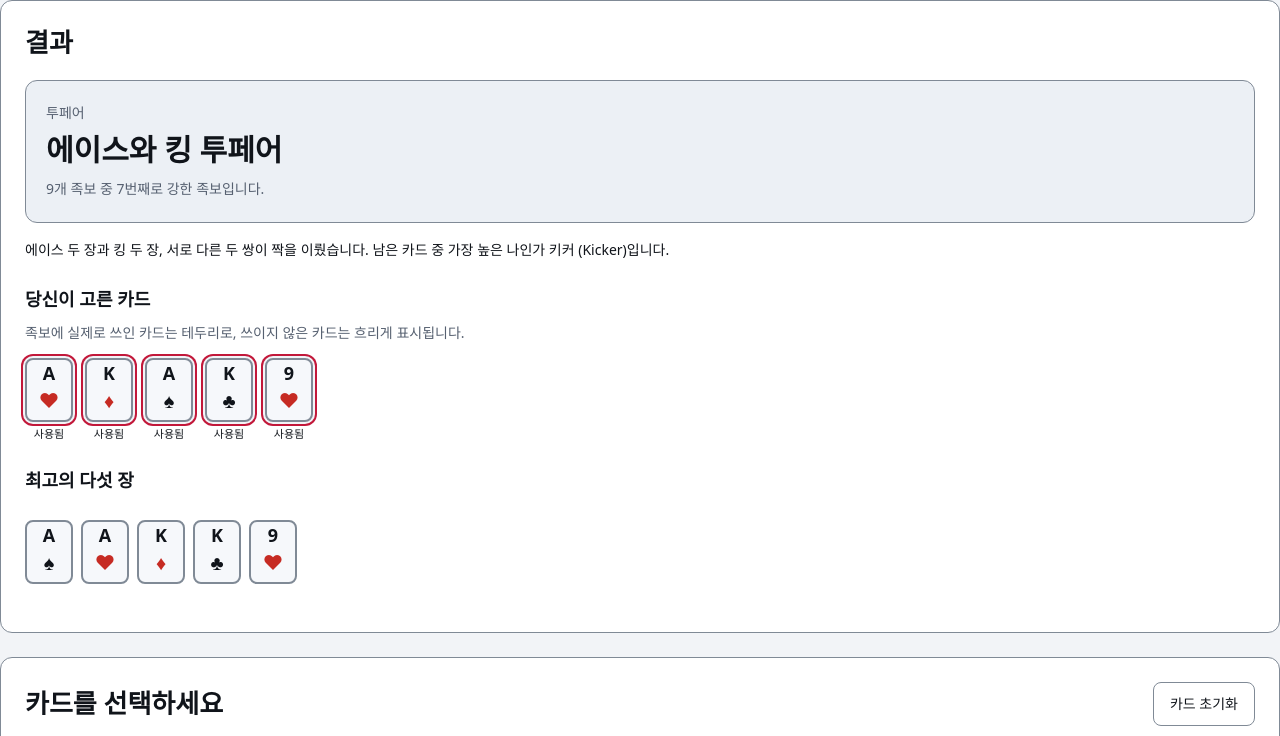
Test: HandChecker › counts down as cards are added, one at a time
Step 1. Click the button "카드 초기화" → (1204,704), box x1=1153 y1=682 x2=1255 y2=726
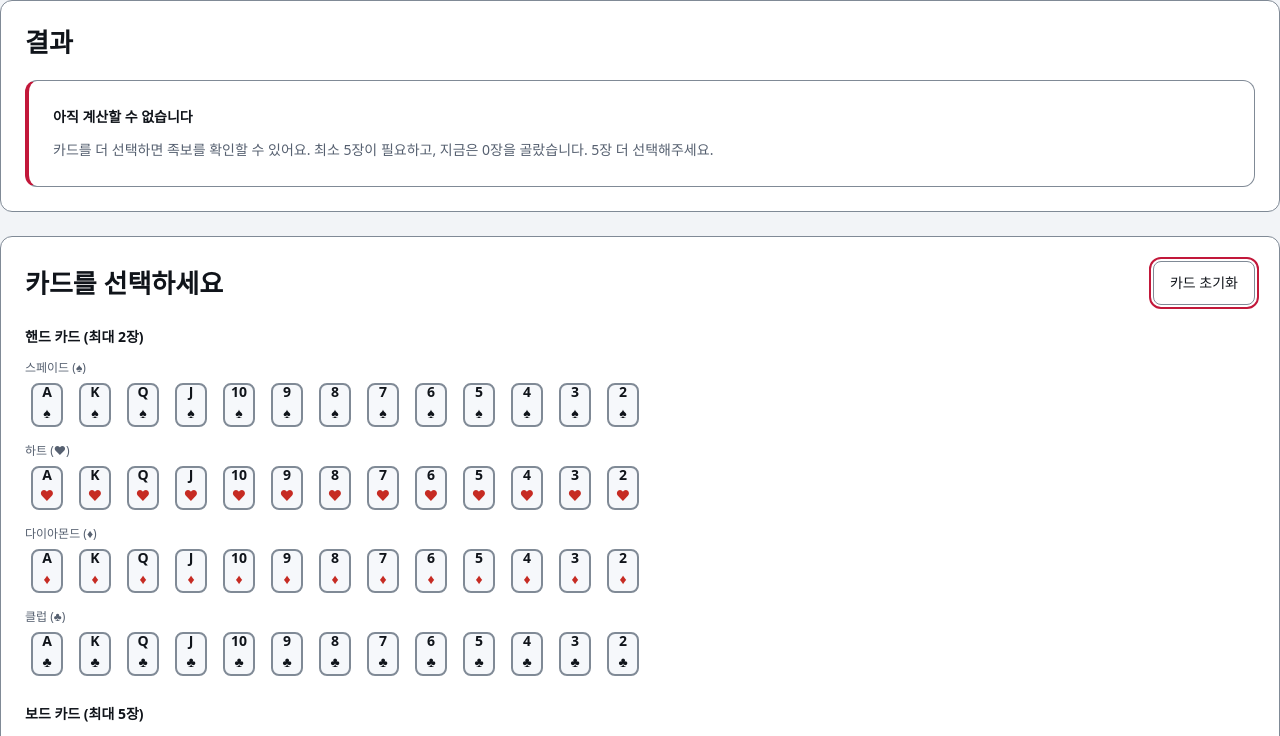
Step 2. Click the button named "스페이드 A 선택" → (47,405), box x1=25 y1=381 x2=69 y2=429
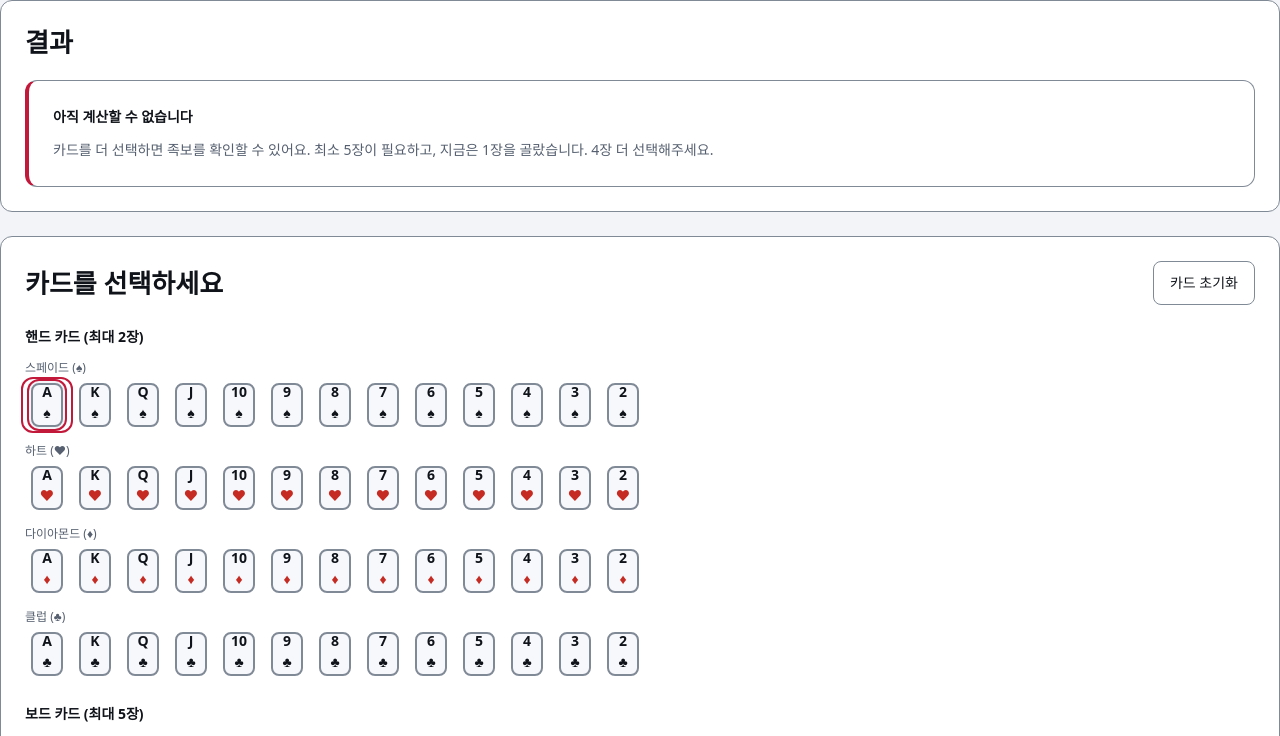
Expected: the text "지금은 1장을 골랐습니다. 4장 더 선택해주세요." is shown, x1=53 y1=140 x2=713 y2=159
Step 3. Click the button "K ♠" below "핸드 카드 (최대" → (95,405), box x1=73 y1=381 x2=117 y2=429
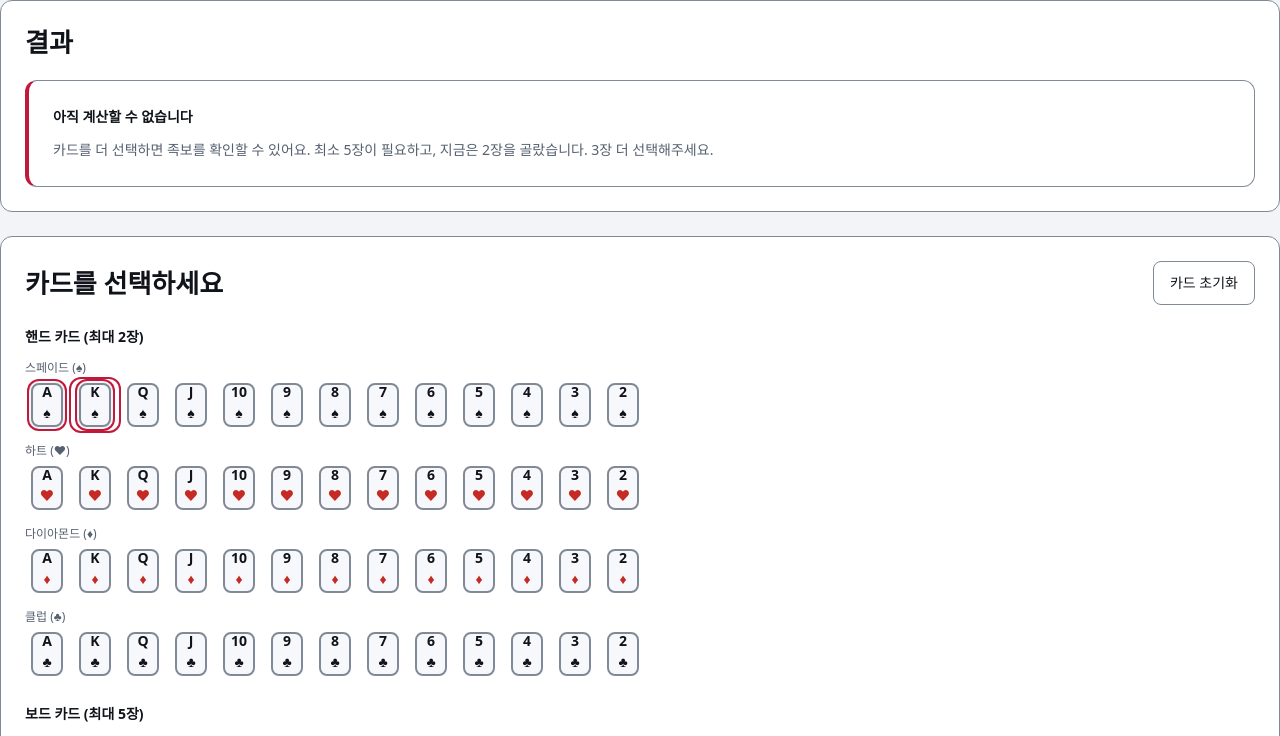
Expected: the text "지금은 2장을 골랐습니다. 3장 더 선택해주세요." is shown, x1=53 y1=140 x2=713 y2=159
